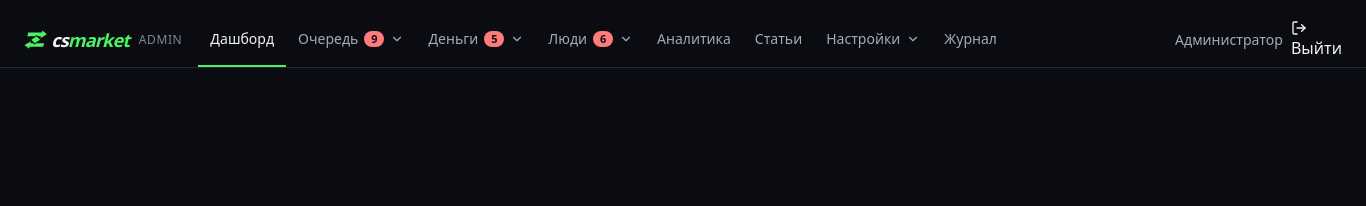
Test: Layout › counts what waits for an operator, as numbers
Expected: the text named "Очередь, ждут: 9" is shown, [364,30,384,46]
Expected: the text named "Деньги, ждут: 5" is shown, [484,30,504,46]
Click the button "Очередь 9": (351, 40) [286,12,416,67]
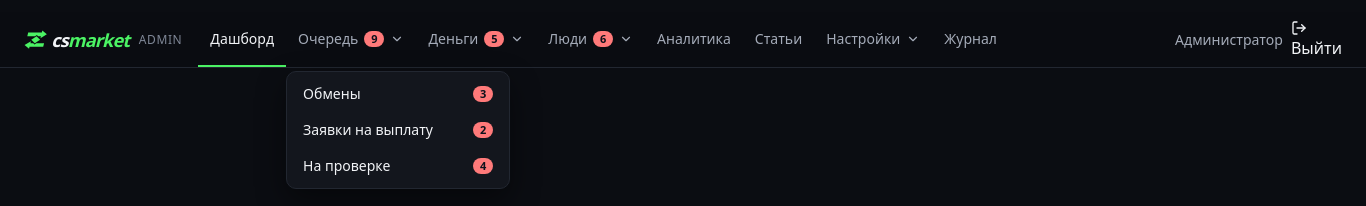
Result: the text named "ждут внимания: 3" is shown at [473,86,493,102]
Result: the text named "к выплате: 2" is shown at [473,122,493,138]
Result: the text named "Платежи на проверке: 4" is shown at [473,158,493,174]
